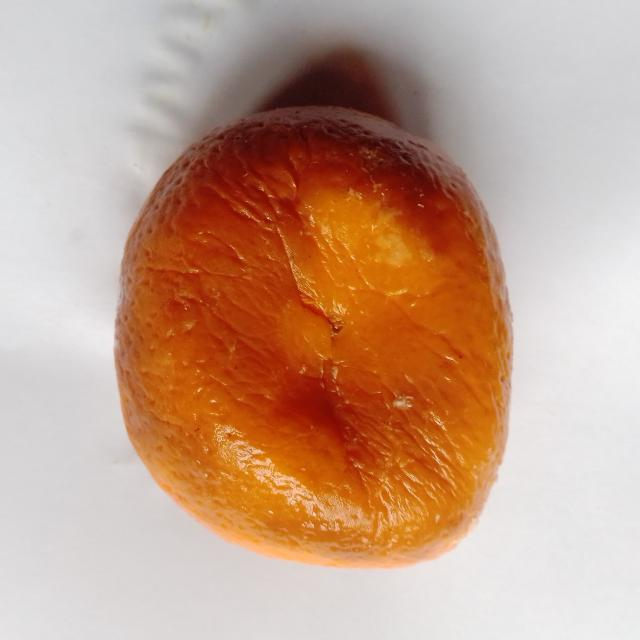orange: (117, 107, 511, 567)
